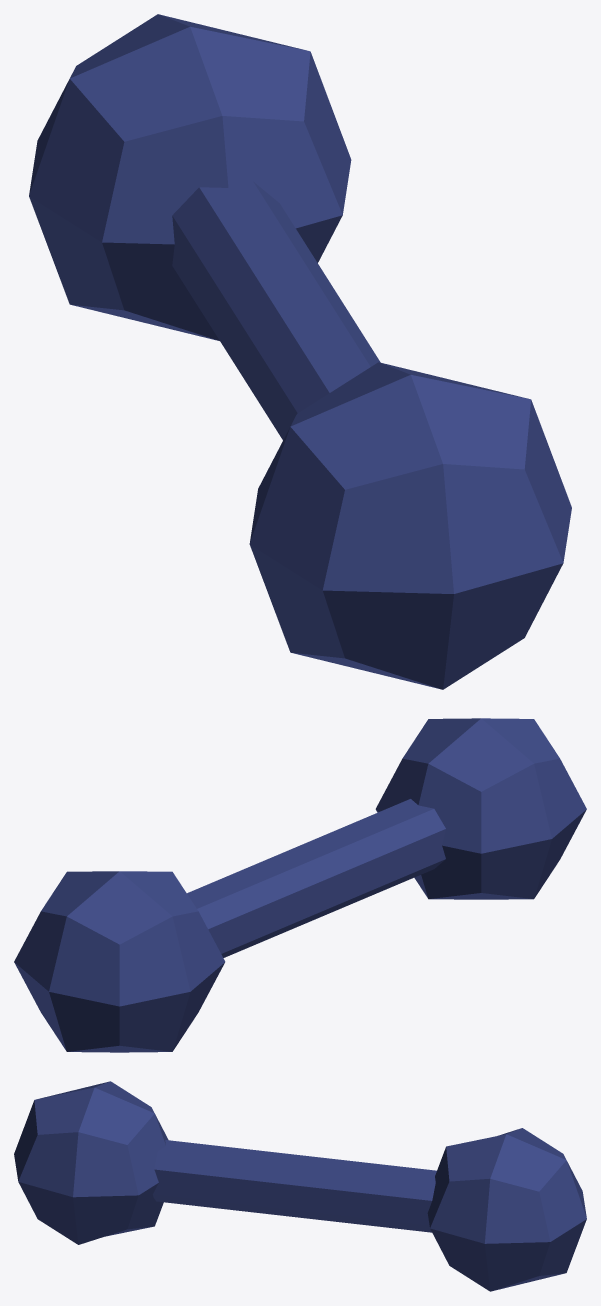
File: Toy_4.fbx
The picture shows the model from 3 angles, top to bottom: view 1: azimuth 30°, elevation 25°; view 2: azimuth 150°, elevation 25°; view 3: azimuth 270°, elevation 25°; orthographic projection. The views are drawn at different scales.
Parts seen in each view (by area): view 1: Toy_4; view 2: Toy_4; view 3: Toy_4.
Part boxes in pixels (x1,y1,x2,y2): Toy_4: [29, 14, 571, 689]; Toy_4: [14, 718, 586, 1052]; Toy_4: [14, 1081, 586, 1291].
Bounding box in the file's own units: 20.2 × 42.63 × 12.42.
